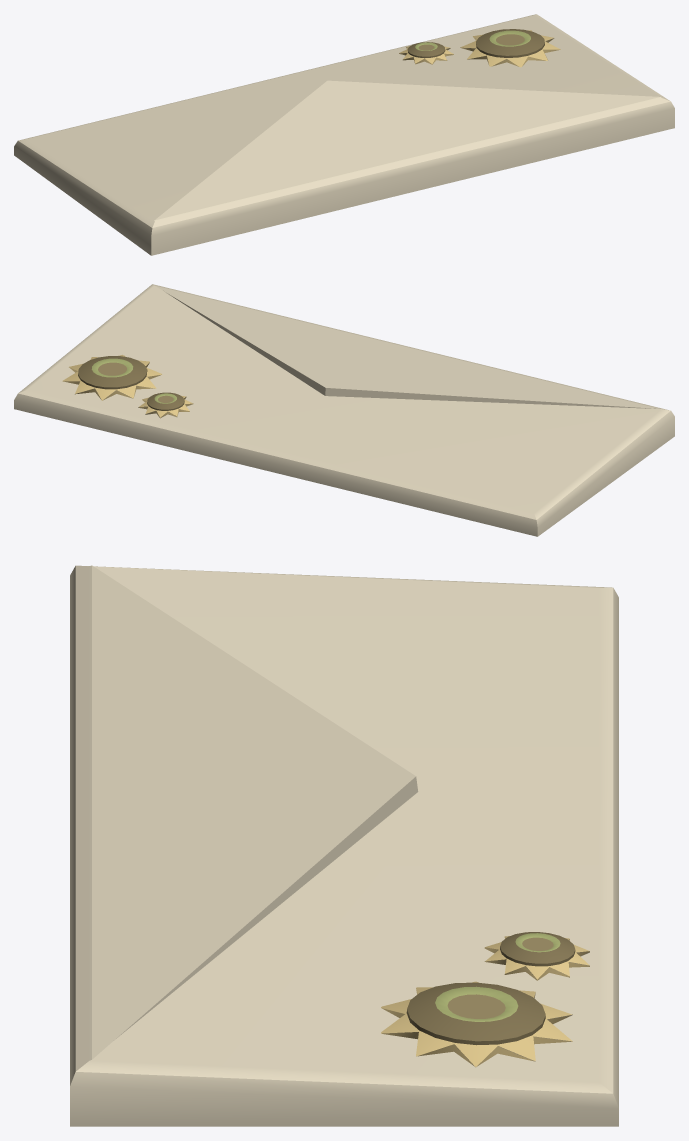
File: envelope.fbx
3 views of the same model, one above another, from view 1: azimuth 30°, elevation 25°; view 2: azimuth 150°, elevation 25°; view 3: azimuth 270°, elevation 25° (orthographic). The views are drawn at different scales.
Visible parts, largest first — view 1: pCube1, pCylinder1, pCylinder2; view 2: pCube1, pCylinder1, pCylinder2; view 3: pCube1, pCylinder1, pCylinder2.
Boxes of the visible parts, x1=… form: pCube1: x1=14, y1=14, x2=674, y2=255; pCylinder1: x1=460, y1=29, x2=560, y2=67; pCylinder2: x1=399, y1=42, x2=453, y2=64; pCube1: x1=14, y1=284, x2=674, y2=536; pCylinder1: x1=62, y1=355, x2=162, y2=400; pCylinder2: x1=138, y1=392, x2=193, y2=418; pCube1: x1=70, y1=565, x2=618, y2=1126; pCylinder1: x1=381, y1=981, x2=572, y2=1067; pCylinder2: x1=484, y1=932, x2=589, y2=980.
Size of the model in its own units: 14.5 by 1.27 by 6.59.
